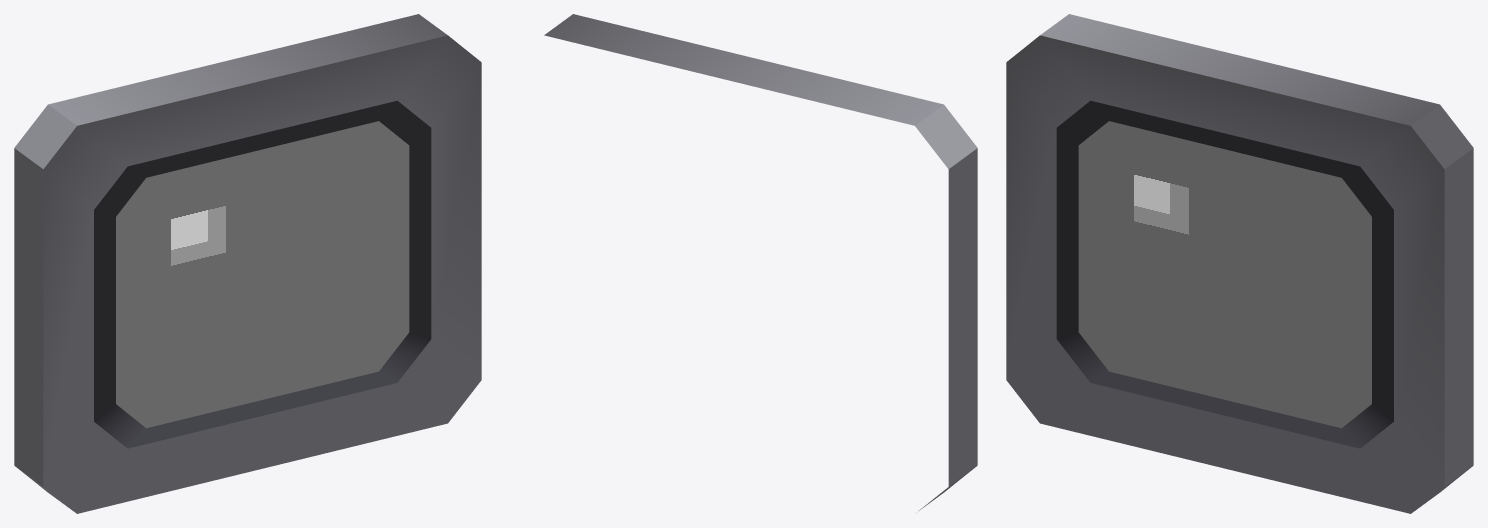
3 views of the same model, side by side, from view 1: azimuth 30°, elevation 25°; view 2: azimuth 150°, elevation 25°; view 3: azimuth 330°, elevation 25° (orthographic).
Parts seen in each view (by area): view 1: machine_pc03; view 2: machine_pc03; view 3: machine_pc03.
Boxes of the visible parts, left/top/right/bottom form: machine_pc03: left=14, top=14, right=481, bottom=513; machine_pc03: left=544, top=14, right=977, bottom=511; machine_pc03: left=1006, top=14, right=1473, bottom=513.
Size of the model in its own units: 1.62 by 1.38 by 0.1875.
Materials: 2 (2 with a texture image).
